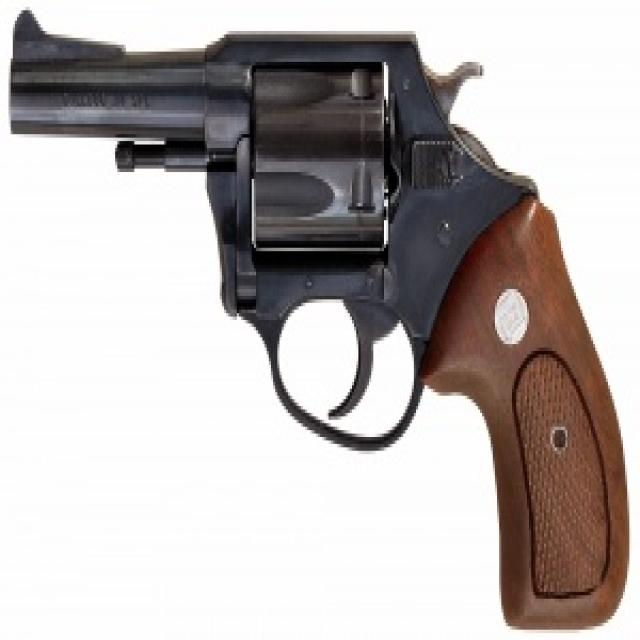Gun: (2, 0, 636, 630)
